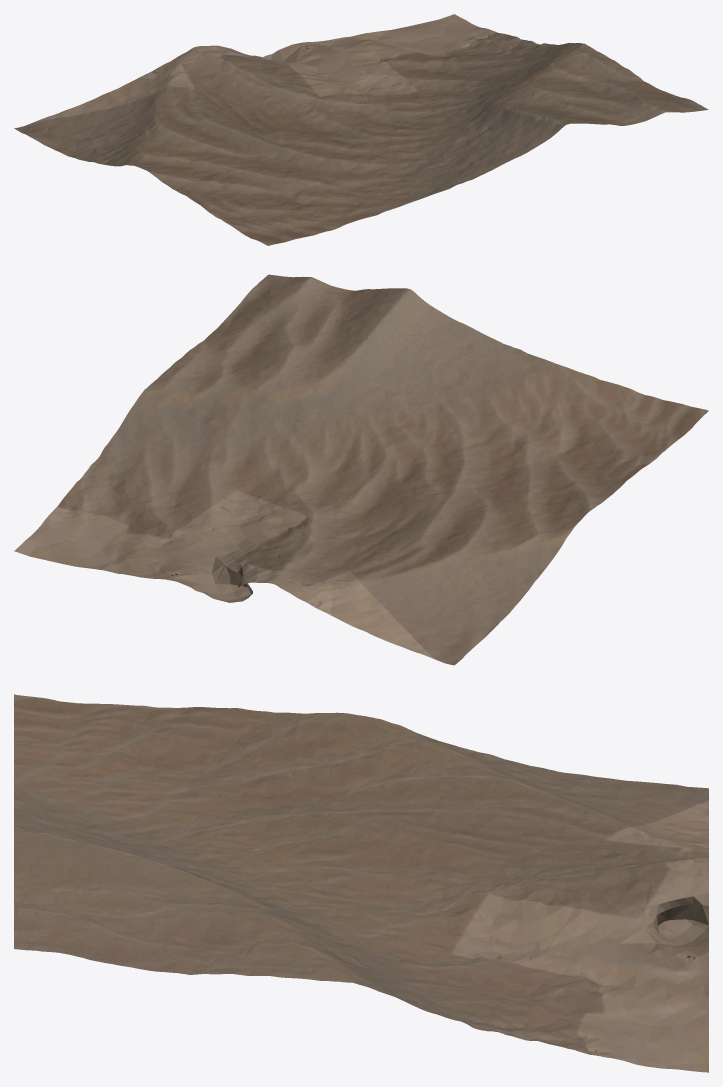
The picture shows the model from 3 angles, top to bottom: view 1: azimuth 30°, elevation 25°; view 2: azimuth 150°, elevation 25°; view 3: azimuth 270°, elevation 25°; orthographic projection. The views are drawn at different scales.
Size of the model in its own units: 1.04 by 0.2659 by 1.04.
3 materials, 3 textured.
